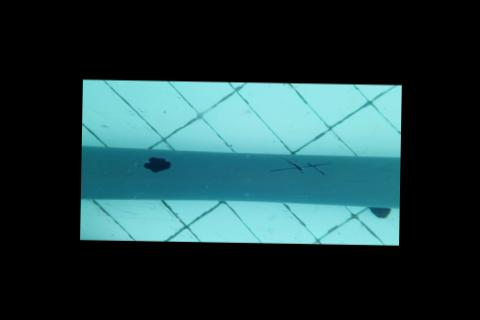kebocoran: (141, 155, 171, 174)
keretakan: (268, 157, 330, 176)
